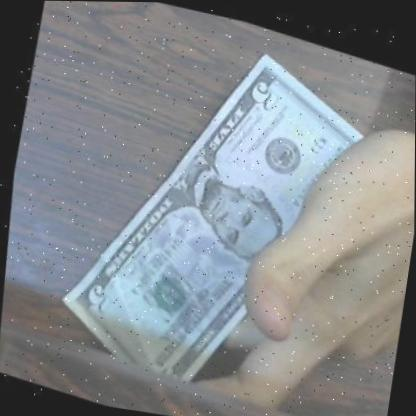five-front: (23, 0, 398, 416)
